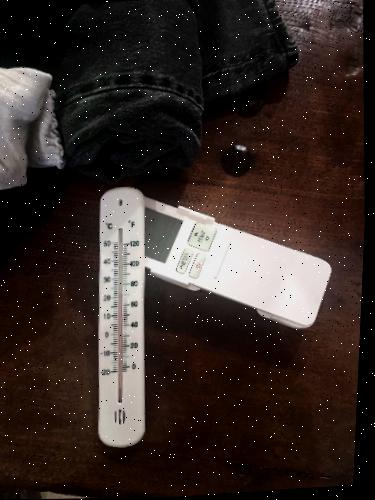thermo: (97, 186, 146, 447)
